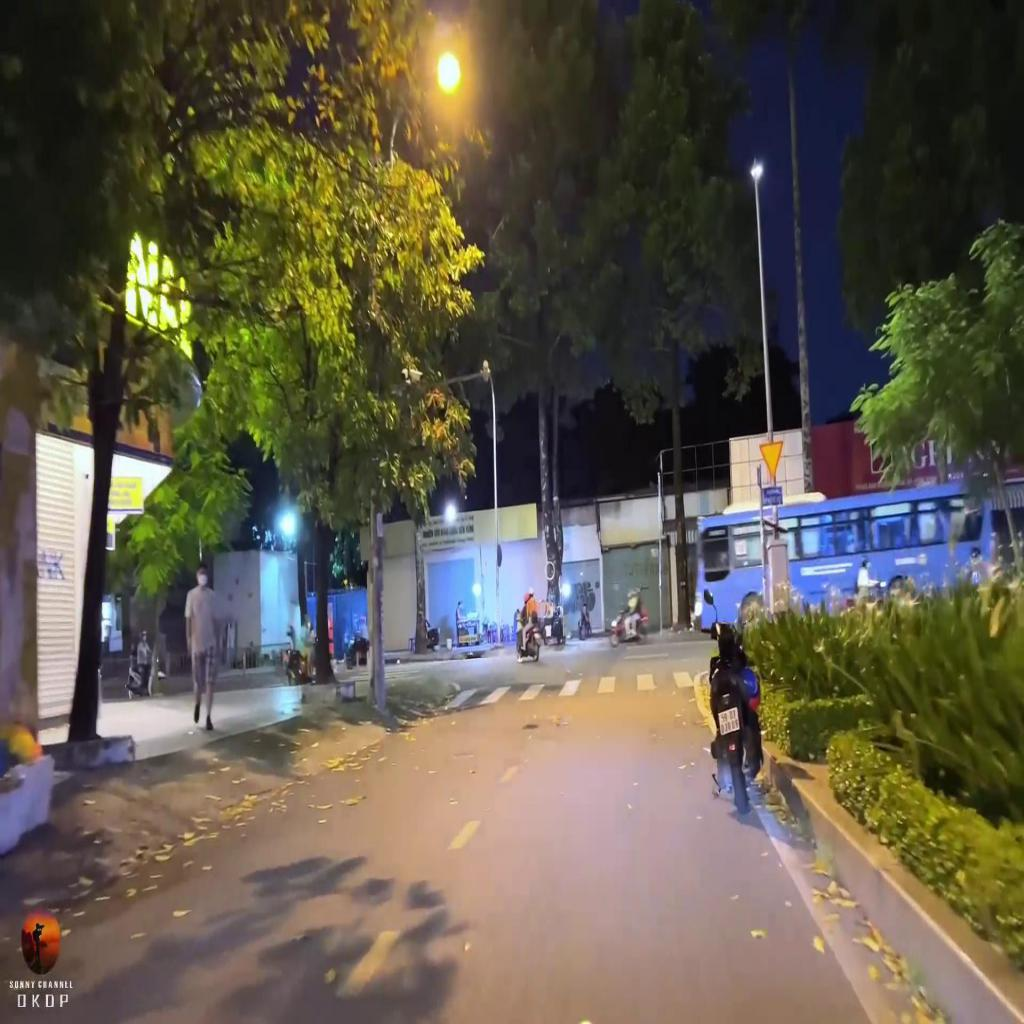giao_nhau_voi_duong_uu_tien: (758, 438, 785, 480)
